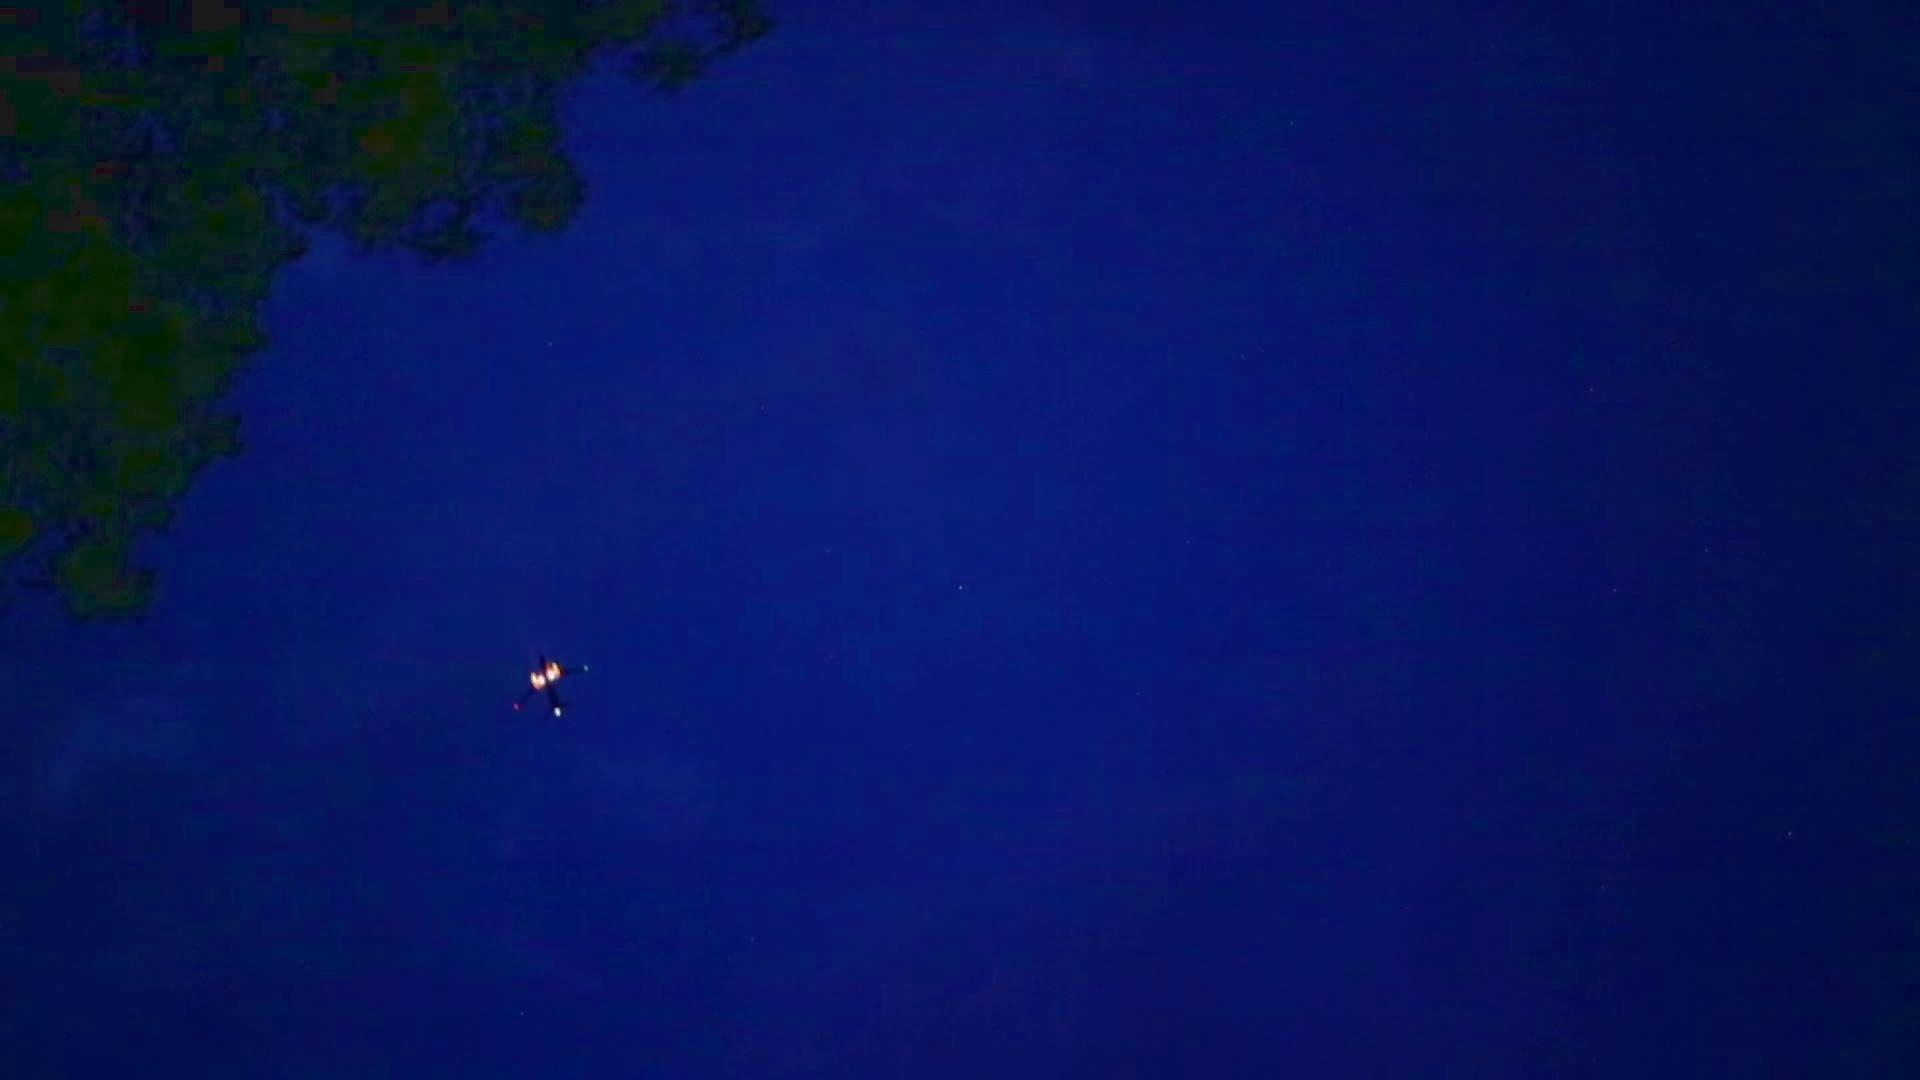Plane: (476, 641, 615, 735)
